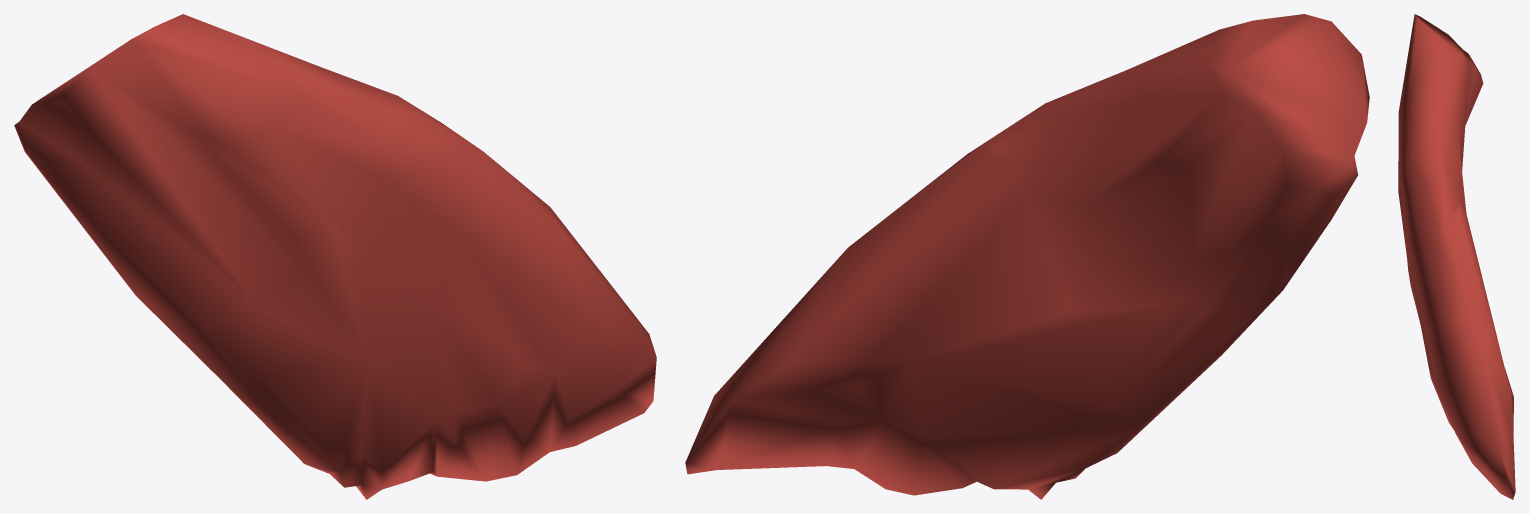
The model's file is musculos-rectus-anterior-capitis-muscle-l.glb.
The picture shows the model from 3 angles, left to right: view 1: azimuth 30°, elevation 25°; view 2: azimuth 150°, elevation 25°; view 3: azimuth 270°, elevation 25°; orthographic projection. The views are drawn at different scales.
Parts seen in each view (by area): view 1: Rectus anterior capitis muscle.l; view 2: Rectus anterior capitis muscle.l; view 3: Rectus anterior capitis muscle.l.
Boxes of the visible parts, left/top/right/bottom form: Rectus anterior capitis muscle.l: left=14, top=14, right=656, bottom=499; Rectus anterior capitis muscle.l: left=685, top=14, right=1369, bottom=499; Rectus anterior capitis muscle.l: left=1398, top=14, right=1515, bottom=499.
Size of the model in its own units: 0.0249 by 0.0204 by 0.00669.
